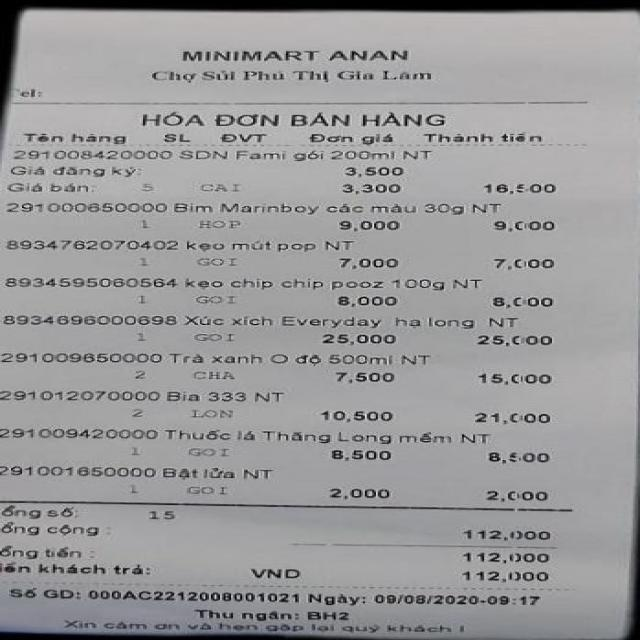Date: (375, 590, 480, 609)
Store_Name: (164, 43, 430, 64)
amount_number: (463, 550, 554, 566)
label_total: (1, 542, 84, 562)
